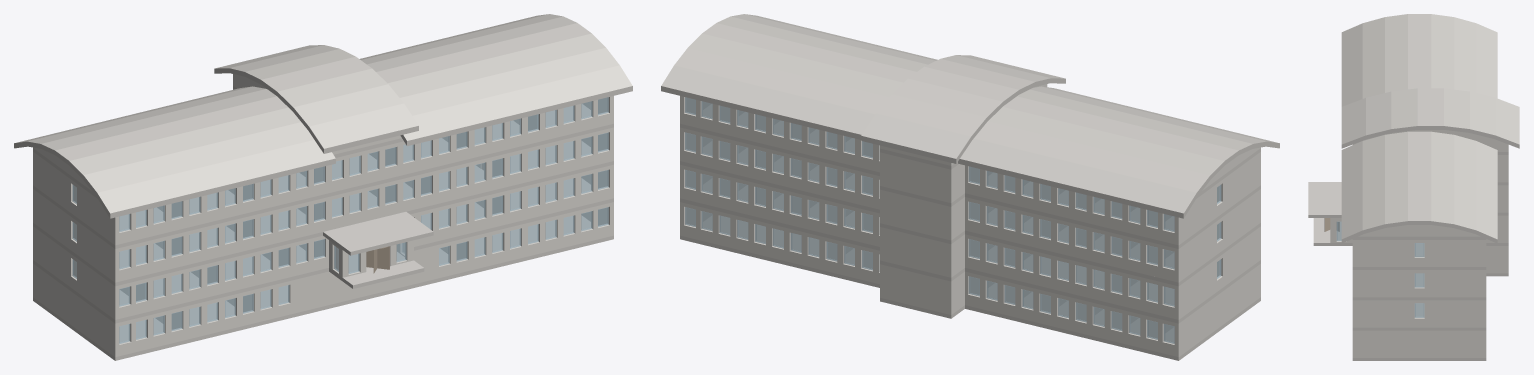
3 renders of one model, left to right at view 1: azimuth 30°, elevation 25°; view 2: azimuth 150°, elevation 25°; view 3: azimuth 270°, elevation 25°, orthographic. The views are drawn at different scales.
Parts seen in each view (by area): view 1: slab, wall, glazing, door; view 2: slab, wall, glazing; view 3: slab, wall, glazing.
Part boxes in pixels (x1,y1,x2,y2): slab: [14, 14, 632, 360]; wall: [33, 74, 613, 357]; glazing: [72, 97, 608, 343]; door: [366, 163, 483, 273]; slab: [661, 14, 1279, 360]; wall: [680, 84, 1260, 357]; glazing: [685, 97, 1221, 343]; slab: [1308, 14, 1519, 360]; wall: [1330, 130, 1508, 357]; glazing: [1336, 221, 1424, 317].
Size of the model in its own units: 44 by 15.35 by 19.
